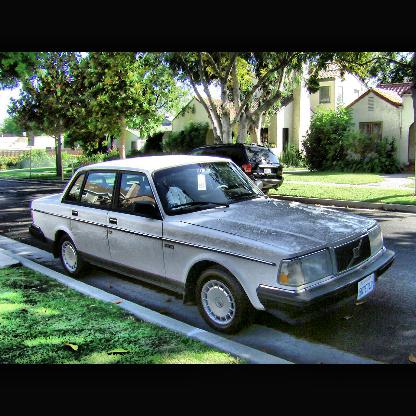Volvo 240 Sedan 1993: (29, 156, 398, 333)
